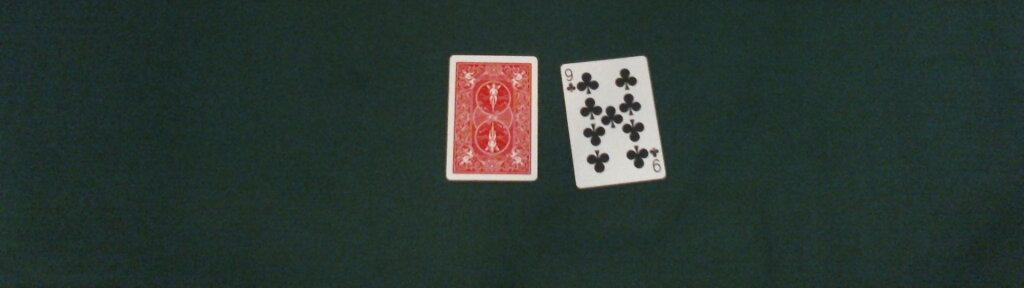back: (447, 55, 539, 182)
nine: (559, 55, 667, 188)
